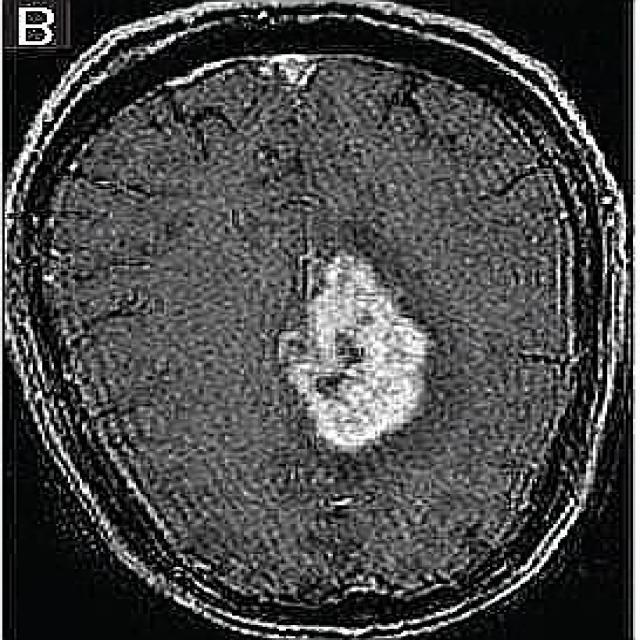Tumor-Cell: (261, 253, 440, 460)
